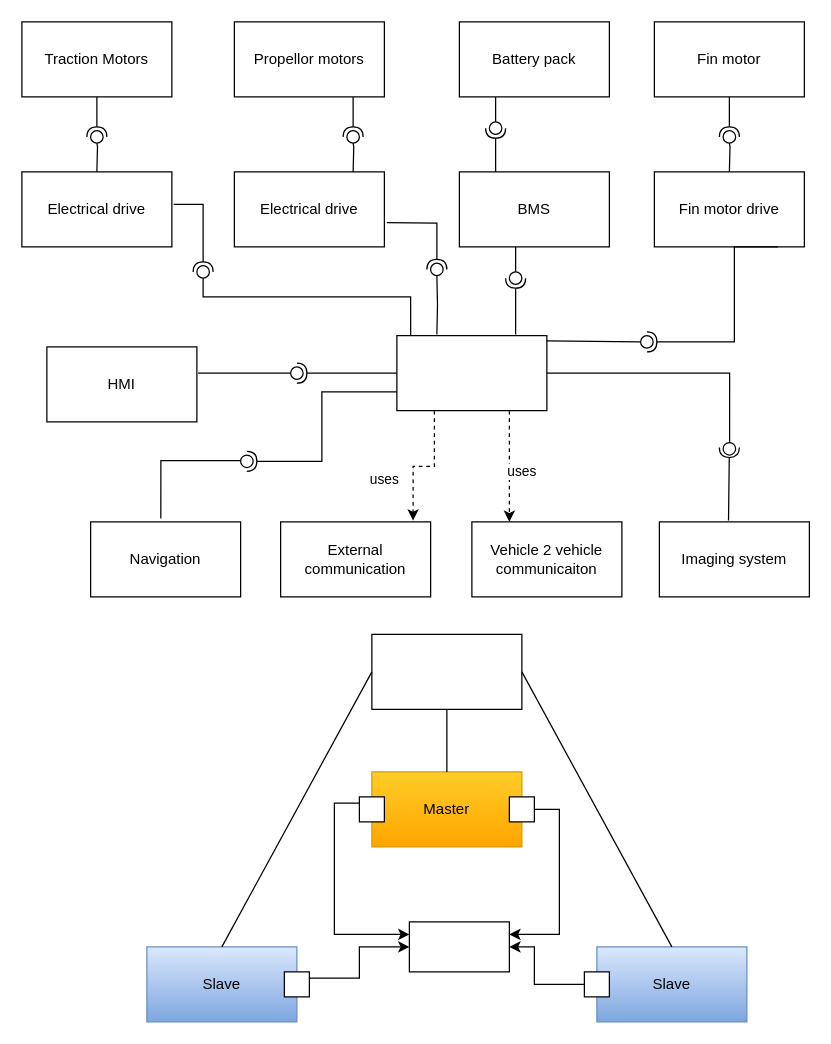
The diagram is 831 pixels wide and 1044 high, and some of its shapes have lost their labels. Each missing label, with the centre of its shape:
"Convoy coordination" belongs at [458,946].
"master controller" belongs at [471,372].
"Obstacle avoidance" belongs at [446,671].
